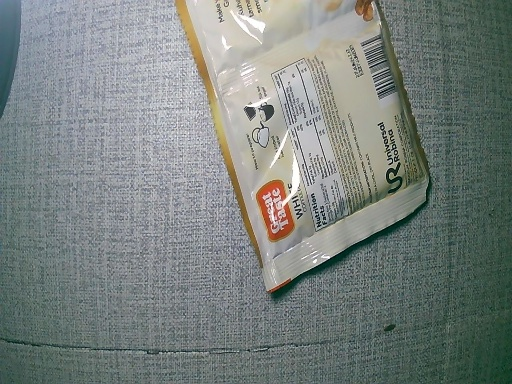plastic: (176, 1, 436, 294)
